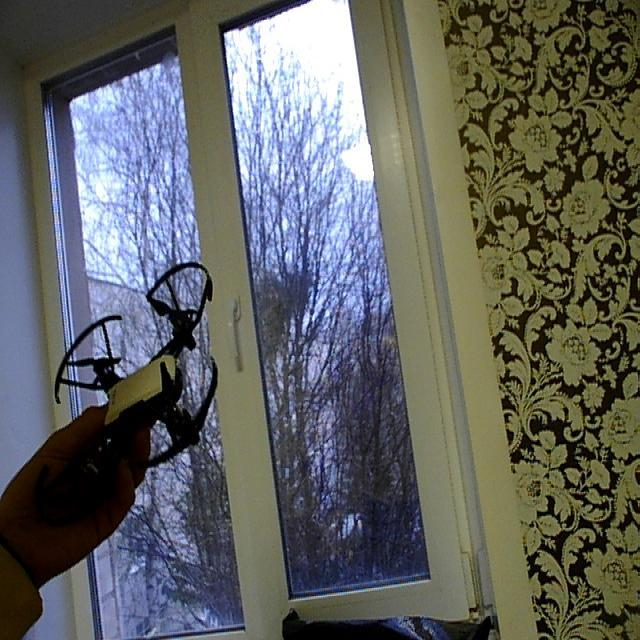drone: (51, 253, 230, 515)
